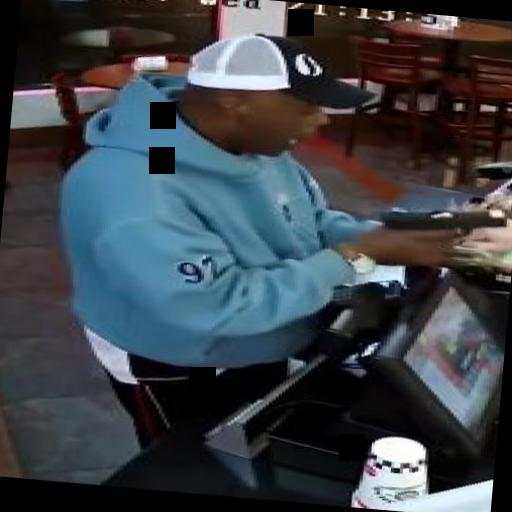Handgun: (376, 198, 508, 266)
